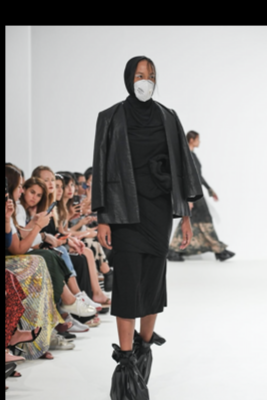with_mask: (133, 71, 156, 102)
without_mask: (25, 188, 43, 208), (12, 181, 24, 202), (42, 176, 55, 194), (64, 182, 74, 198), (55, 183, 64, 200), (78, 180, 87, 195), (195, 137, 201, 148)
